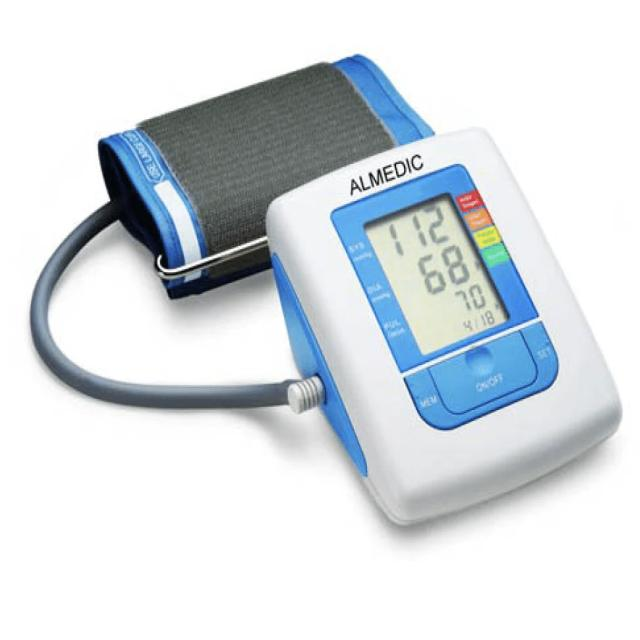dia: (411, 237, 478, 298)
pul: (449, 278, 491, 318)
ssd: (361, 189, 511, 361)
sys: (382, 200, 454, 259)
